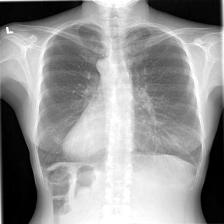normal: (32, 19, 205, 179)
